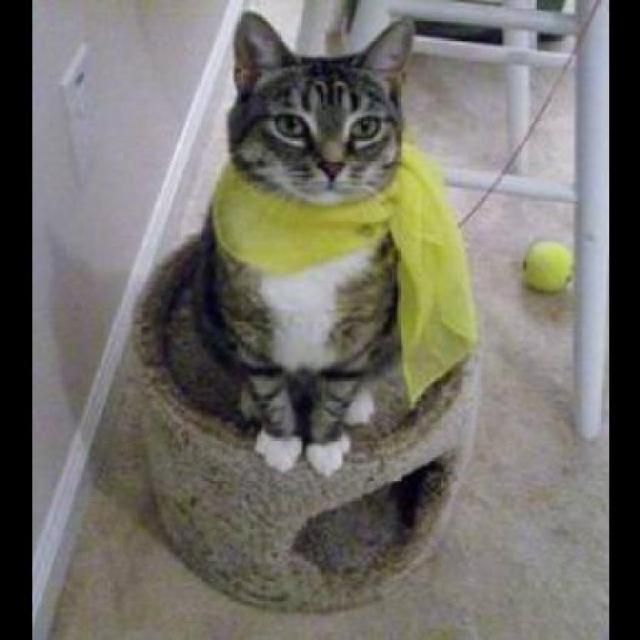unauthorized: (140, 3, 422, 479)
